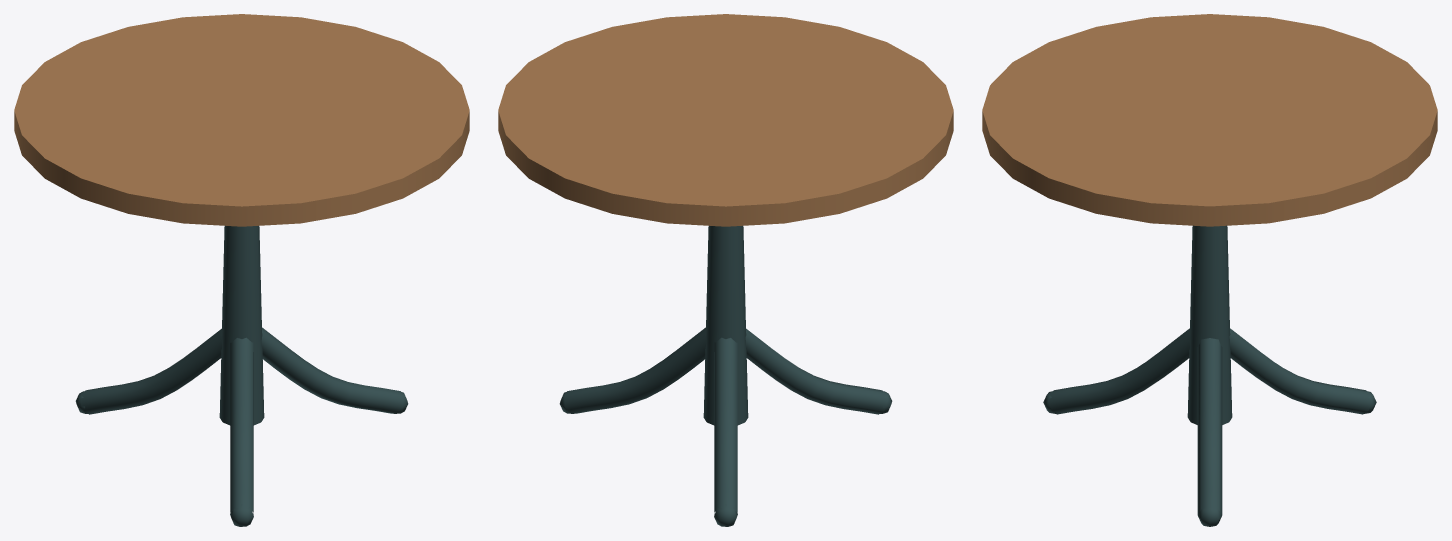
The model's file is almanac-gardens-bistro-table-2763c7c6__22019.glb.
3 renders of one model, left to right at view 1: azimuth 30°, elevation 25°; view 2: azimuth 150°, elevation 25°; view 3: azimuth 270°, elevation 25°, orthographic.
Visible parts, largest first — view 1: bistro-table-oak, bistro-table-iron; view 2: bistro-table-oak, bistro-table-iron; view 3: bistro-table-oak, bistro-table-iron.
Part boxes in pixels (x1=…): bistro-table-oak: x1=14, y1=14, x2=469, y2=226; bistro-table-iron: x1=75, y1=226, x2=408, y2=526; bistro-table-oak: x1=498, y1=14, x2=953, y2=226; bistro-table-iron: x1=559, y1=226, x2=892, y2=526; bistro-table-oak: x1=982, y1=14, x2=1437, y2=226; bistro-table-iron: x1=1043, y1=225, x2=1376, y2=526.
Bounding box in the file's own units: 0.92 × 0.76 × 0.92.
